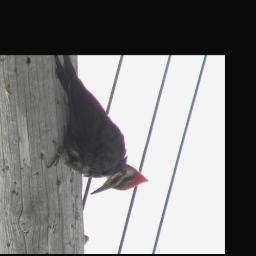Woodpecker: (45, 56, 151, 197)
